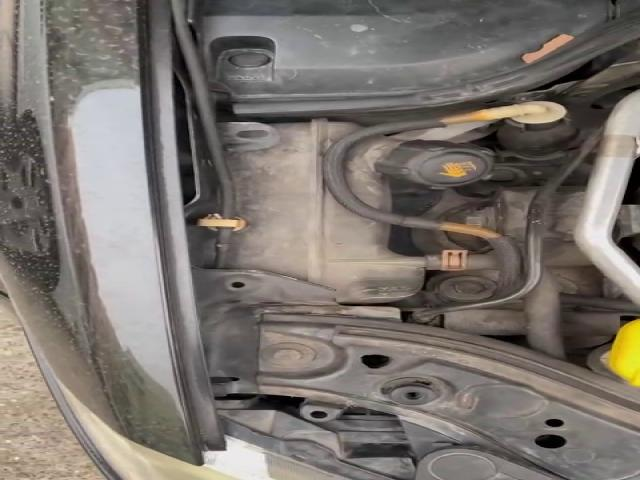antifreeze_tank: (227, 120, 424, 303), (347, 136, 495, 210)
